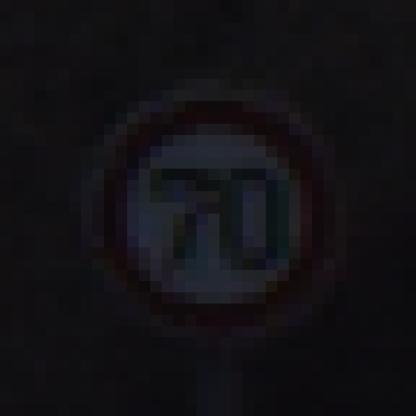Speed Limit 70: (99, 99, 328, 327)
